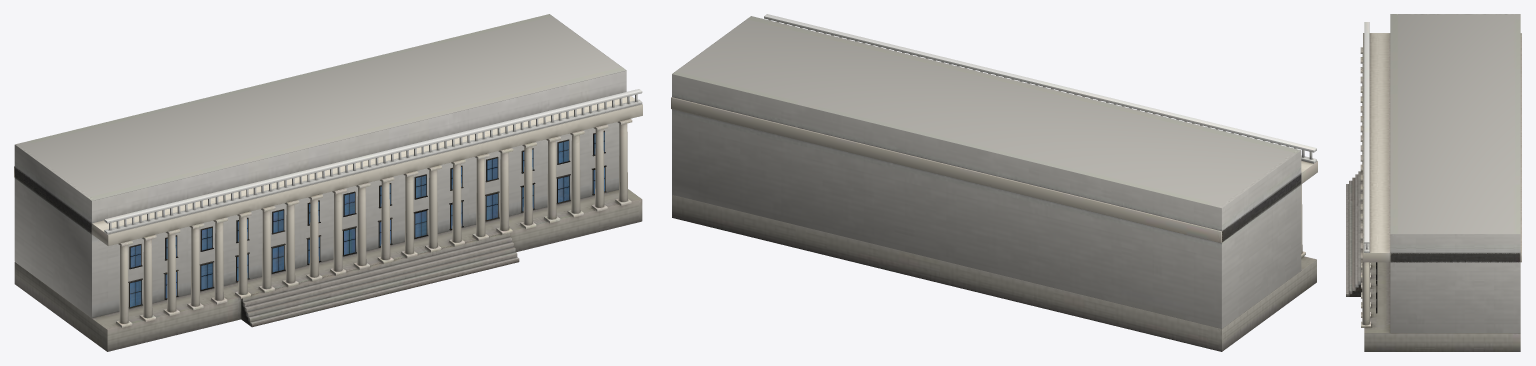
File: tesoro.glb
3 views of the same model, side by side, from view 1: azimuth 30°, elevation 25°; view 2: azimuth 150°, elevation 25°; view 3: azimuth 270°, elevation 25° (orthographic). The views are drawn at different scales.
Visible parts, largest first — view 1: tesoro; view 2: tesoro; view 3: tesoro.
Part boxes in pixels (left/top/right/bottom): tesoro: left=14, top=14, right=642, bottom=351; tesoro: left=671, top=14, right=1317, bottom=351; tesoro: left=1346, top=14, right=1521, bottom=351.
Bounding box in the file's own units: 60 × 15 × 20.25.
Materials: 1 (1 with a texture image).
